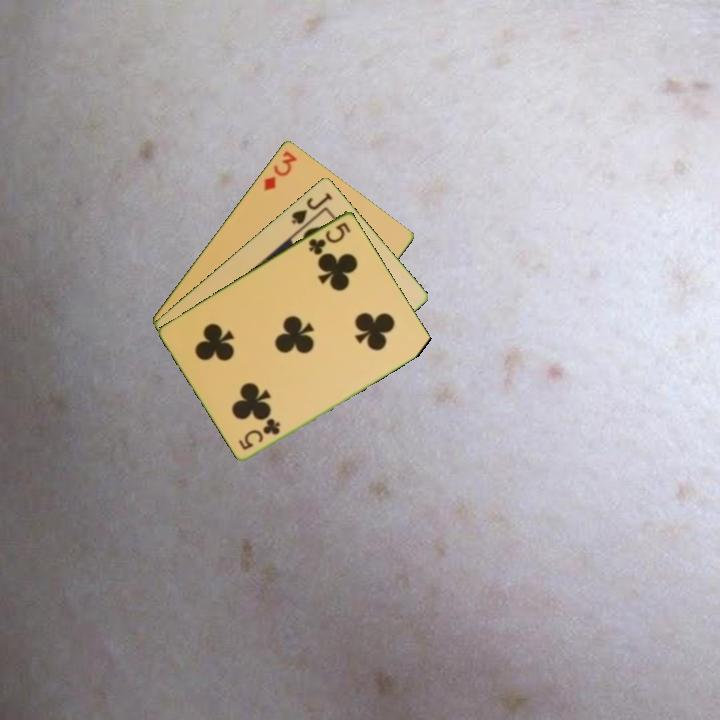3d: (260, 147, 300, 194)
5c: (305, 218, 354, 258), (235, 416, 283, 453)
Js: (287, 188, 335, 227)
